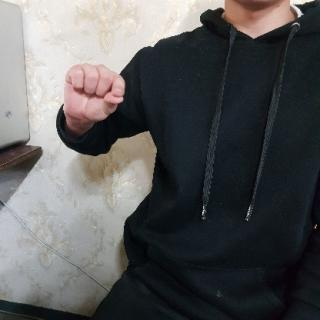FAA: (56, 61, 128, 127)
